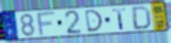2: (64, 9, 83, 36)
8: (19, 13, 37, 38)
D: (131, 5, 152, 31), (84, 9, 104, 34)
F: (36, 10, 57, 37)
T: (111, 7, 128, 31)
